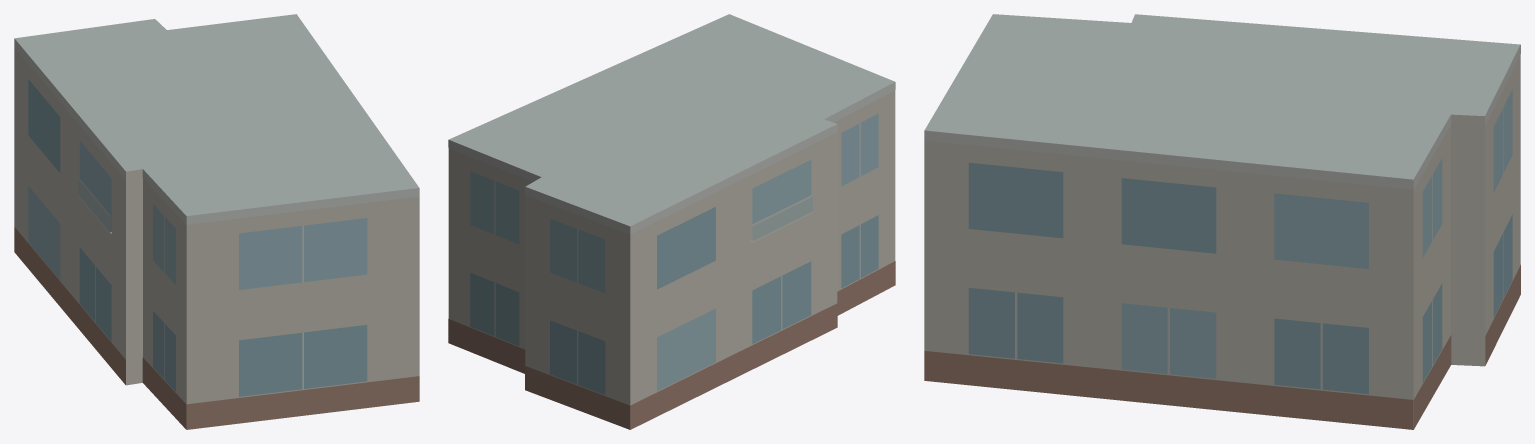
The model's file is survey-upis-32992681.glb.
3 views of the same model, side by side, from view 1: azimuth 30°, elevation 25°; view 2: azimuth 150°, elevation 25°; view 3: azimuth 270°, elevation 25° (orthographic). The views are drawn at different scales.
Parts seen in each view (by area): view 1: survey-upis-32992681.tmp; view 2: survey-upis-32992681.tmp; view 3: survey-upis-32992681.tmp.
Boxes of the visible parts, <box> form: survey-upis-32992681.tmp: <box>14,14,419,429</box>; survey-upis-32992681.tmp: <box>448,14,895,429</box>; survey-upis-32992681.tmp: <box>924,14,1520,429</box>.
Bounding box in the file's own units: 8.67 × 6.1 × 13.18.
